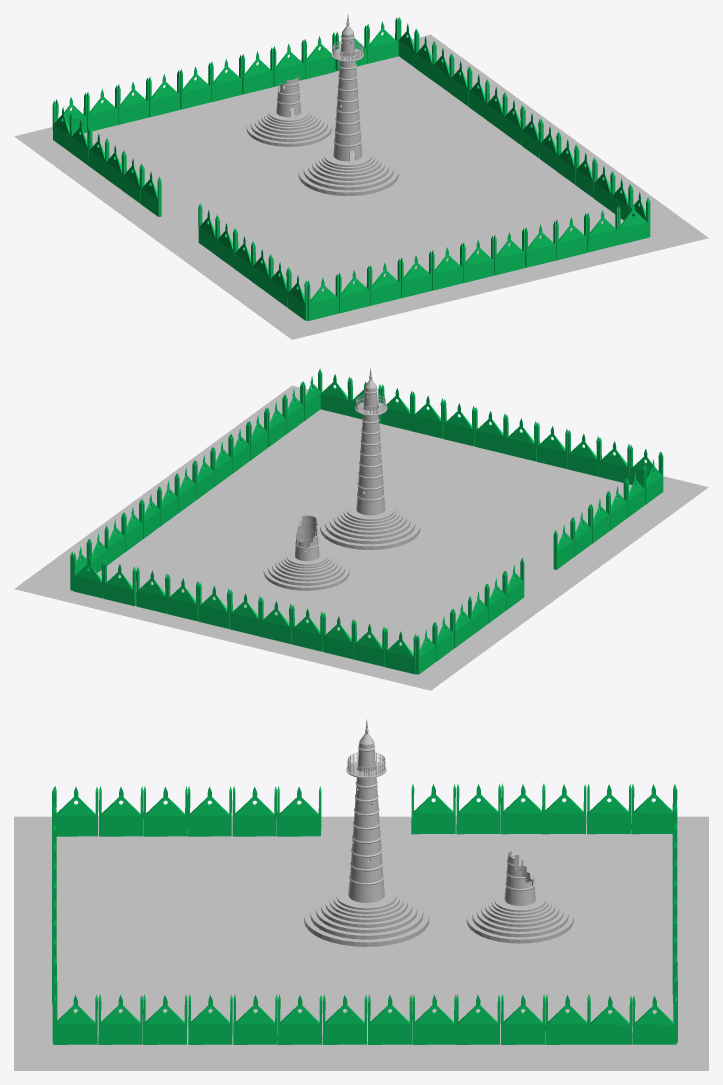
3 renders of one model, top to bottom at view 1: azimuth 30°, elevation 25°; view 2: azimuth 150°, elevation 25°; view 3: azimuth 270°, elevation 25°, orthographic. The views are drawn at different scales.
Visible parts, largest first — view 1: Plane_Plane.001, Fence_Cube.004, NewDharara_Circle.013, OldDharara_Circle.000; view 2: Plane_Plane.001, Fence_Cube.004, NewDharara_Circle.013, OldDharara_Circle.000; view 3: Plane_Plane.001, Fence_Cube.004, NewDharara_Circle.013, OldDharara_Circle.000.
Boxes of the visible parts, <box> form: Plane_Plane.001: <box>14,34,708,339</box>; Fence_Cube.004: <box>52,17,650,320</box>; NewDharara_Circle.013: <box>298,14,398,195</box>; OldDharara_Circle.000: <box>246,76,331,146</box>; Plane_Plane.001: <box>14,385,708,690</box>; Fence_Cube.004: <box>70,369,663,674</box>; NewDharara_Circle.013: <box>320,368,420,549</box>; OldDharara_Circle.000: <box>263,515,349,590</box>; Plane_Plane.001: <box>14,816,708,1070</box>; Fence_Cube.004: <box>52,783,677,1044</box>; NewDharara_Circle.013: <box>304,719,429,946</box>; OldDharara_Circle.000: <box>466,851,573,943</box>.
Size of the model in its own units: 21.77 by 8.88 by 25.15.
